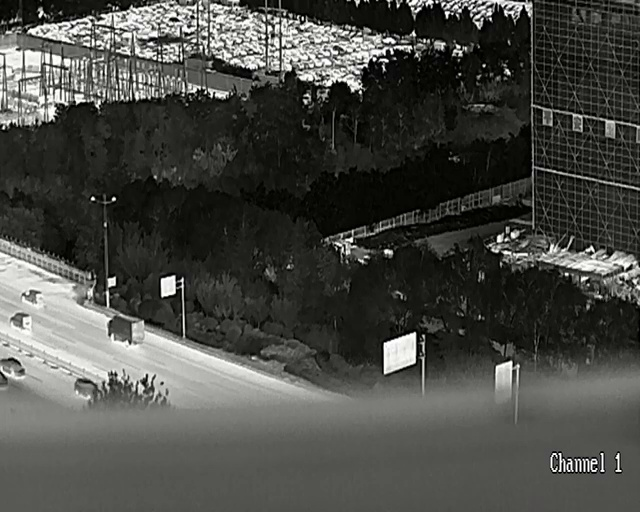uav: (448, 151, 461, 161)
